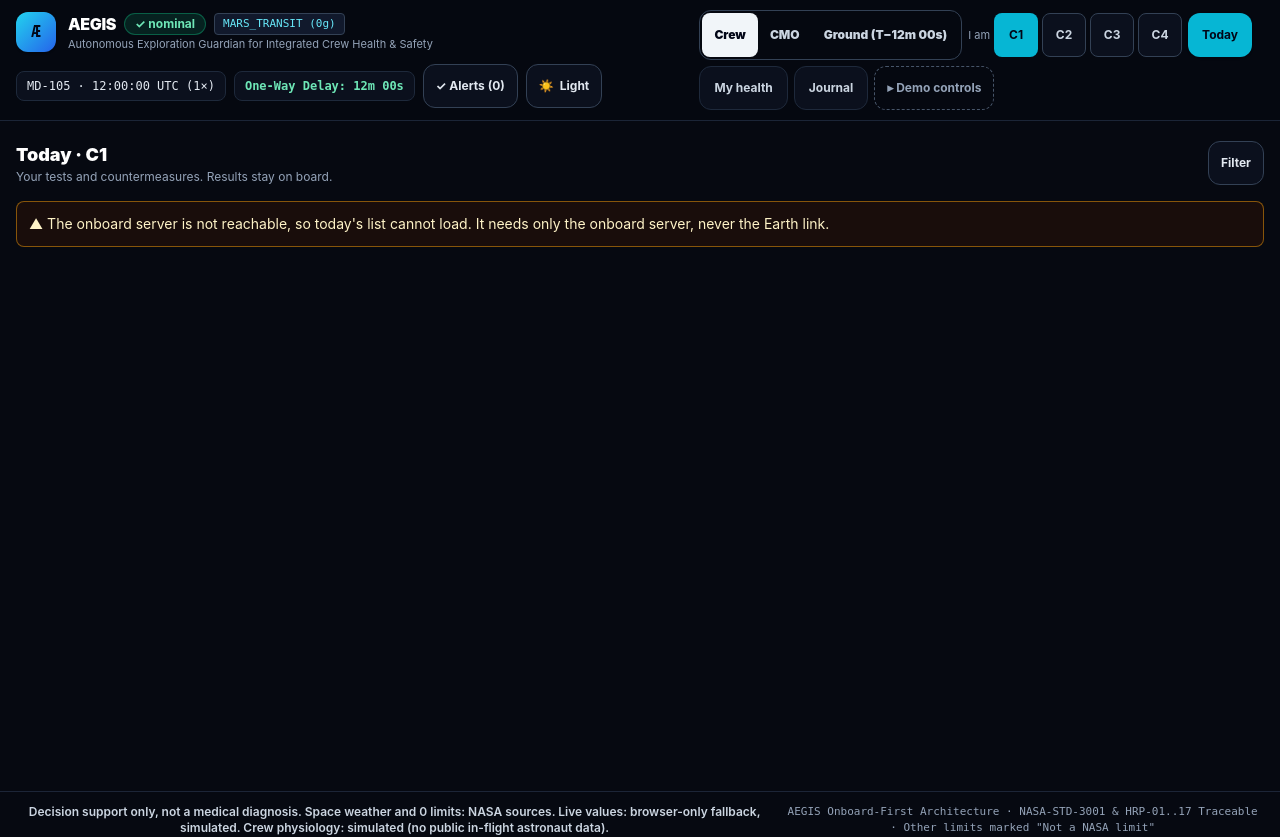
Test: S-3 alerts in one place › no Alert Center tab; the header chip opens and closes the alert panel
This screenshot has width=1280, height=837.
Click the button with test id "alerts-chip".
click(470, 86)  # box [423,64,518,108]
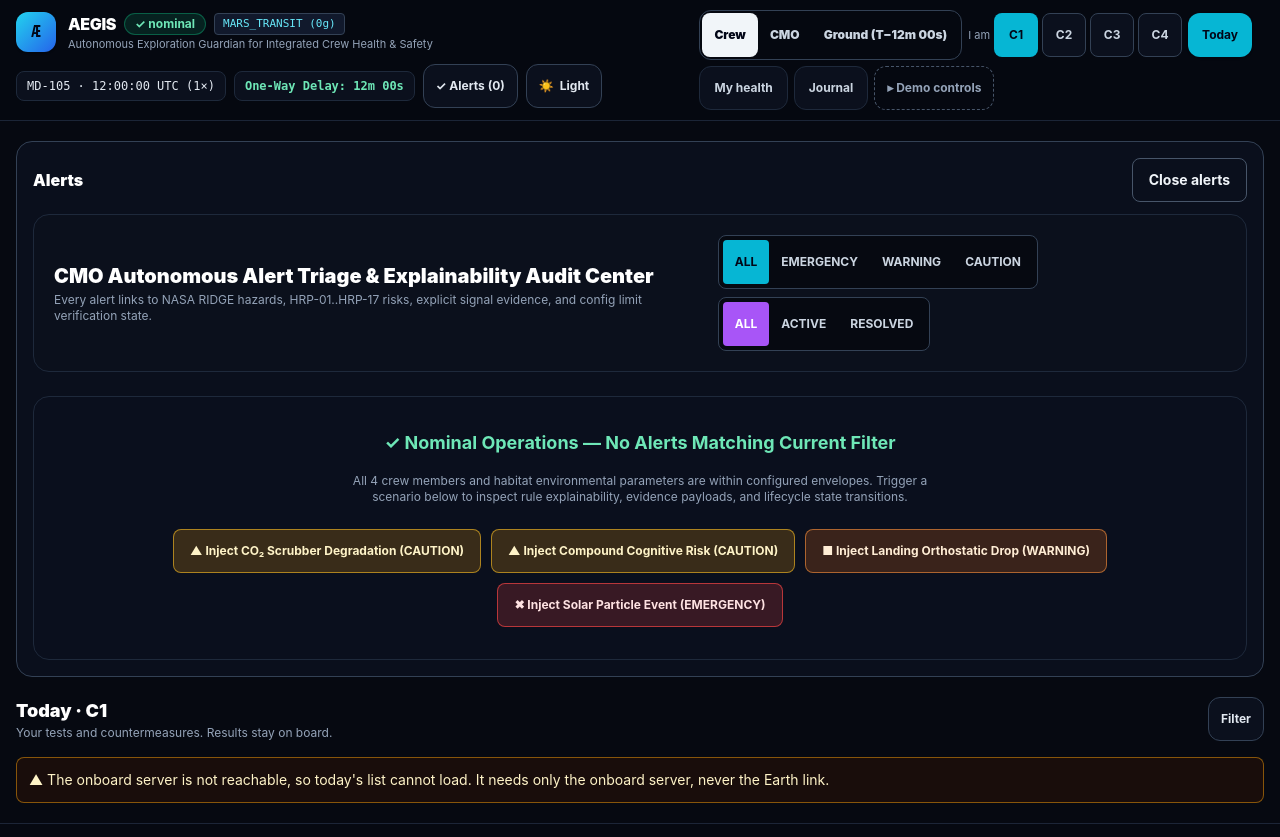
Now the element with test id "alerts-panel" is shown
Click the button "Close alerts".
click(1189, 180)  # box [1132,158,1247,202]
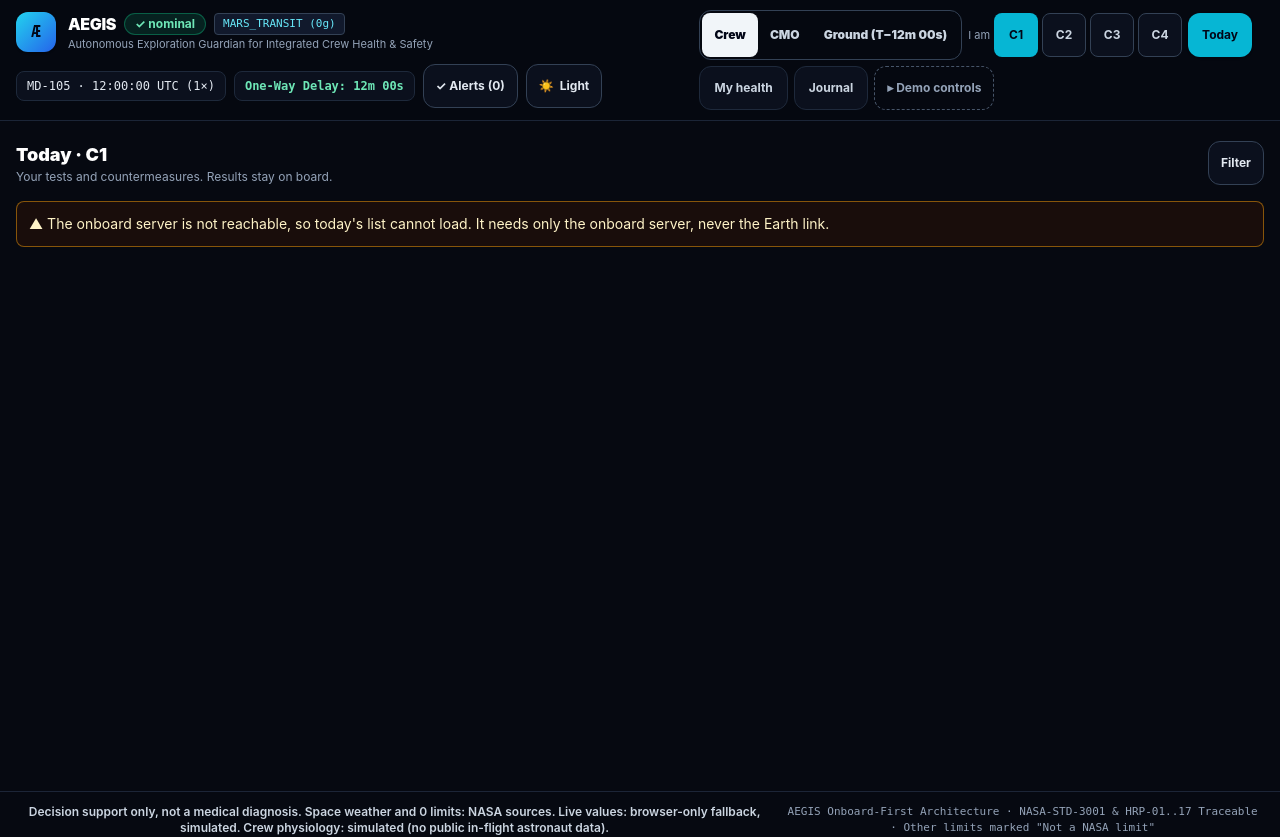
Now the element with test id "alerts-panel" is gone
